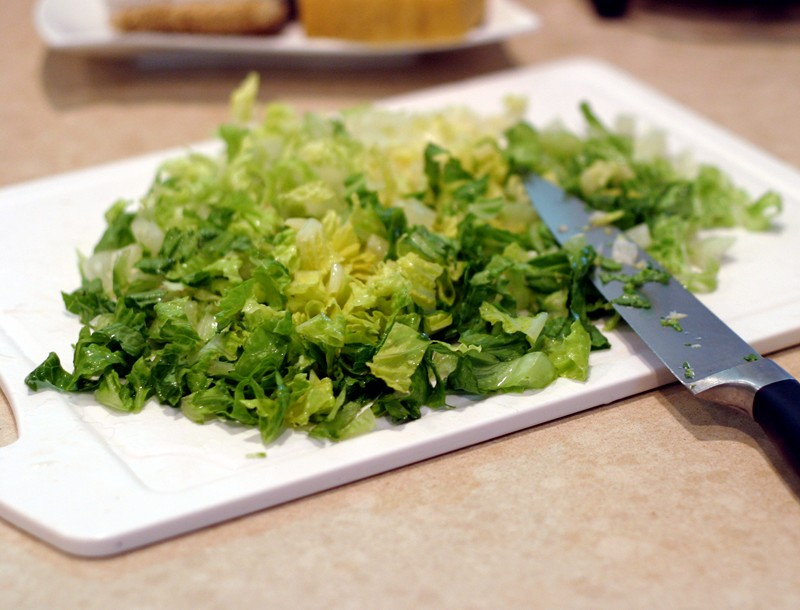chopped lettuce: (82, 124, 668, 415)
